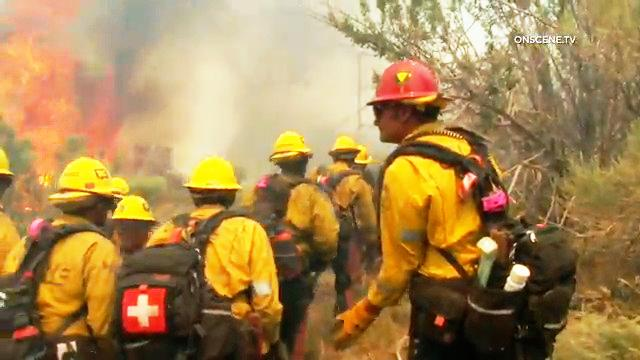fire: (0, 0, 88, 148)
